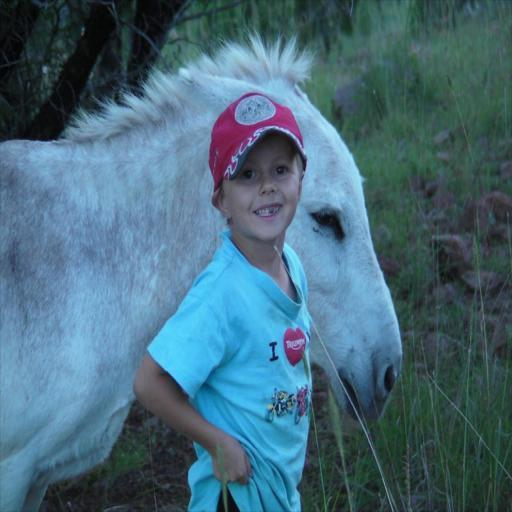horse: (0, 23, 407, 512)
